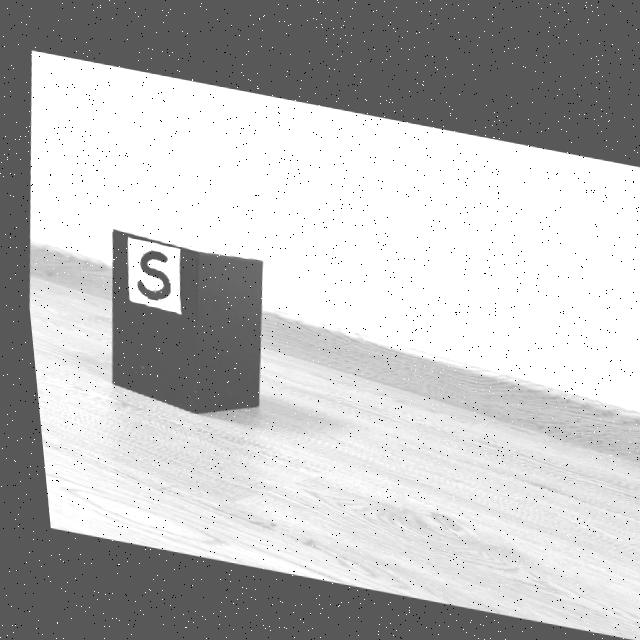S: (131, 248, 165, 297)
